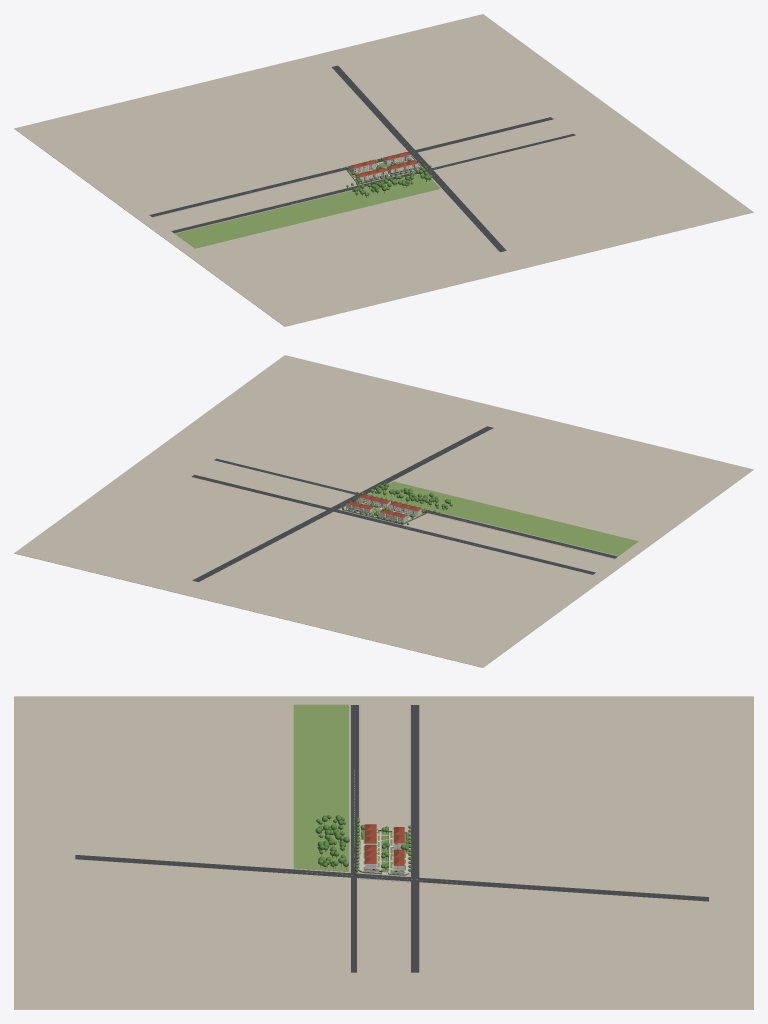
Rendered from irfaniye_169_1.glb.
The picture shows the model from 3 angles, top to bottom: view 1: azimuth 30°, elevation 25°; view 2: azimuth 150°, elevation 25°; view 3: azimuth 270°, elevation 25°; orthographic projection. The views are drawn at different scales.
Parts seen in each view (by area): view 1: ground, park, asphalt, sidewalk, Agaclar_agac_tac; view 2: ground, park, asphalt, sidewalk, Agaclar_agac_tac; view 3: ground, park, asphalt, Agaclar_agac_tac, sidewalk, roof, grass.
Boxes of the visible parts, x1,y1,x2,y2 form: ground: [14, 14, 753, 326]; park: [175, 173, 440, 248]; asphalt: [149, 65, 575, 252]; sidewalk: [152, 152, 431, 233]; Agaclar_agac_tac: [340, 157, 432, 196]; ground: [14, 355, 753, 667]; park: [368, 481, 638, 555]; asphalt: [191, 426, 617, 581]; sidewalk: [330, 495, 618, 572]; Agaclar_agac_tac: [342, 483, 452, 524]; ground: [14, 696, 753, 1009]; park: [293, 704, 348, 872]; asphalt: [75, 705, 708, 972]; Agaclar_agac_tac: [315, 815, 411, 875]; sidewalk: [349, 704, 410, 882]; roof: [364, 824, 404, 865]; grass: [361, 829, 408, 873].
Bounding box in the file's own units: 840 × 12.06 × 840.
